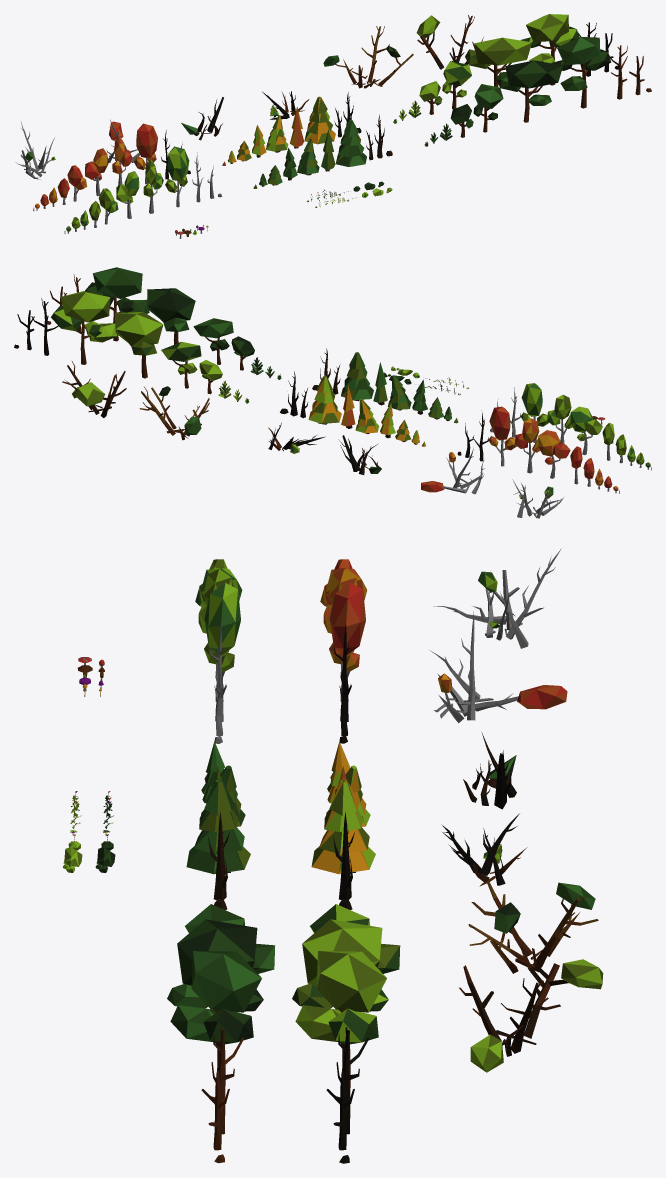
The model's file is LowPolyNaturePackage.obj.
3 views of the same model, one above another, from view 1: azimuth 30°, elevation 25°; view 2: azimuth 150°, elevation 25°; view 3: azimuth 270°, elevation 25° (orthographic). The views are drawn at different scales.
Visible parts, largest first — view 1: Tree3_M1_6_big, Tree3_M1_7_big, Tree3_M2_6_big, Tree3_M2_7_big, Tree3_M1_LyingTree, Tree2_M1_7_big, Tree2_M2_7_big, Tree1_M1_9_big, Tree3_M2_LyingTree, Tree1_M2_9_big, Tree3_M1_5_medium, Tree3_M2_5_medium (+18 smaller); view 2: Tree3_M2_7_big, Tree3_M1_7_big, Tree3_M2_6_big, Tree3_M1_6_big, Tree3_M2_LyingTree, Tree3_M1_LyingTree, Tree2_M2_7_big, Tree2_M1_7_big, Tree1_M2_9_big, Tree3_M2_5_medium, Tree3_M1_5_medium, Tree1_M2_LyingTree (+16 smaller); view 3: Tree3_M1_7_big, Tree3_M2_7_big, Tree3_M2_LyingTree, Tree3_M2_6_big, Tree3_M1_6_big, Tree3_M1_LyingTree, Tree2_M2_7_big, Tree2_M1_7_big, Tree1_M2_LyingTree, Tree1_M2_9_big, Tree1_M1_9_big, Tree1_M1_LyingTree (+6 smaller).
Boxes of the visible parts, left/top/right/bottom form: Tree3_M1_6_big: left=496, top=60, right=563, bottom=122; Tree3_M1_7_big: left=552, top=37, right=611, bottom=108; Tree3_M2_6_big: left=465, top=37, right=531, bottom=86; Tree3_M2_7_big: left=520, top=14, right=578, bottom=85; Tree3_M1_LyingTree: left=323, top=26, right=413, bottom=88; Tree2_M1_7_big: left=335, top=119, right=366, bottom=166; Tree2_M2_7_big: left=304, top=96, right=335, bottom=144; Tree1_M1_9_big: left=165, top=146, right=189, bottom=207; Tree3_M2_LyingTree: left=416, top=15, right=490, bottom=69; Tree1_M2_9_big: left=134, top=123, right=157, bottom=184; Tree3_M1_5_medium: left=473, top=84, right=503, bottom=132; Tree3_M2_5_medium: left=442, top=61, right=471, bottom=109; Tree3_M2_7_big: left=51, top=291, right=117, bottom=364; Tree3_M1_7_big: left=85, top=267, right=149, bottom=341; Tree3_M2_6_big: left=115, top=311, right=163, bottom=378; Tree3_M1_6_big: left=147, top=288, right=195, bottom=344; Tree3_M2_LyingTree: left=62, top=361, right=126, bottom=417; Tree3_M1_LyingTree: left=139, top=386, right=209, bottom=440; Tree2_M2_7_big: left=308, top=375, right=341, bottom=424; Tree2_M1_7_big: left=341, top=352, right=373, bottom=401; Tree1_M2_9_big: left=488, top=406, right=516, bottom=466; Tree3_M2_5_medium: left=161, top=341, right=201, bottom=388; Tree3_M1_5_medium: left=193, top=318, right=233, bottom=364; Tree1_M2_LyingTree: left=421, top=448, right=484, bottom=494; Tree3_M1_7_big: left=170, top=951, right=263, bottom=1096; Tree3_M2_7_big: left=295, top=951, right=388, bottom=1096; Tree3_M2_LyingTree: left=459, top=946, right=603, bottom=1072; Tree3_M2_6_big: left=292, top=919, right=400, bottom=1012; Tree3_M1_6_big: left=167, top=919, right=275, bottom=1012; Tree3_M1_LyingTree: left=468, top=881, right=598, bottom=973; Tree2_M2_7_big: left=311, top=779, right=375, bottom=874; Tree2_M1_7_big: left=186, top=779, right=250, bottom=874; Tree1_M2_LyingTree: left=429, top=611, right=567, bottom=723; Tree1_M2_9_big: left=329, top=583, right=365, bottom=701; Tree1_M1_9_big: left=204, top=583, right=240, bottom=701; Tree1_M1_LyingTree: left=433, top=548, right=561, bottom=648.
Bounding box in the file's own units: 7006 × 855 × 2792.
